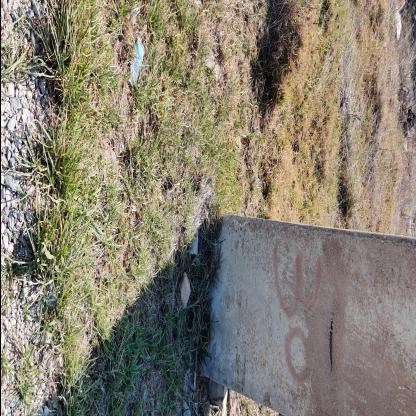plastik: (128, 36, 145, 88)
